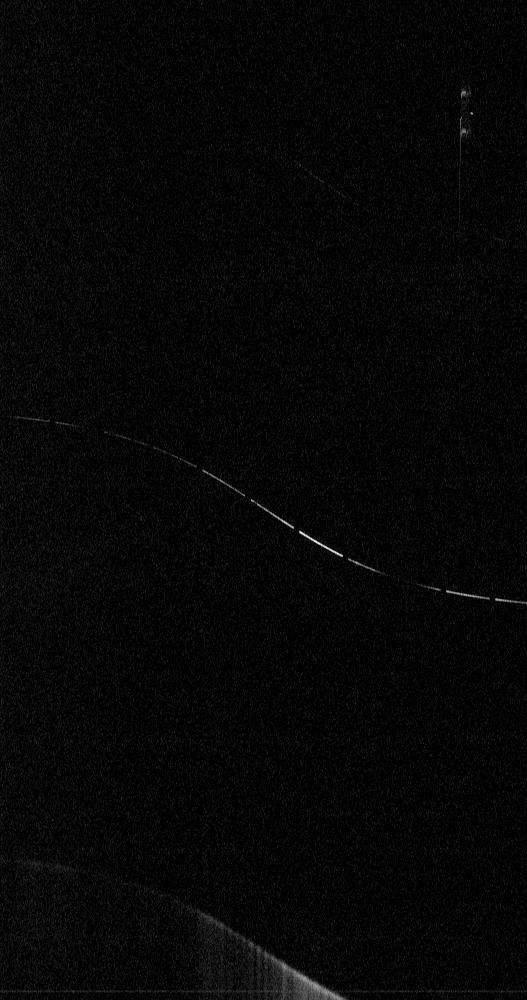signal: (0, 0, 526, 999)
